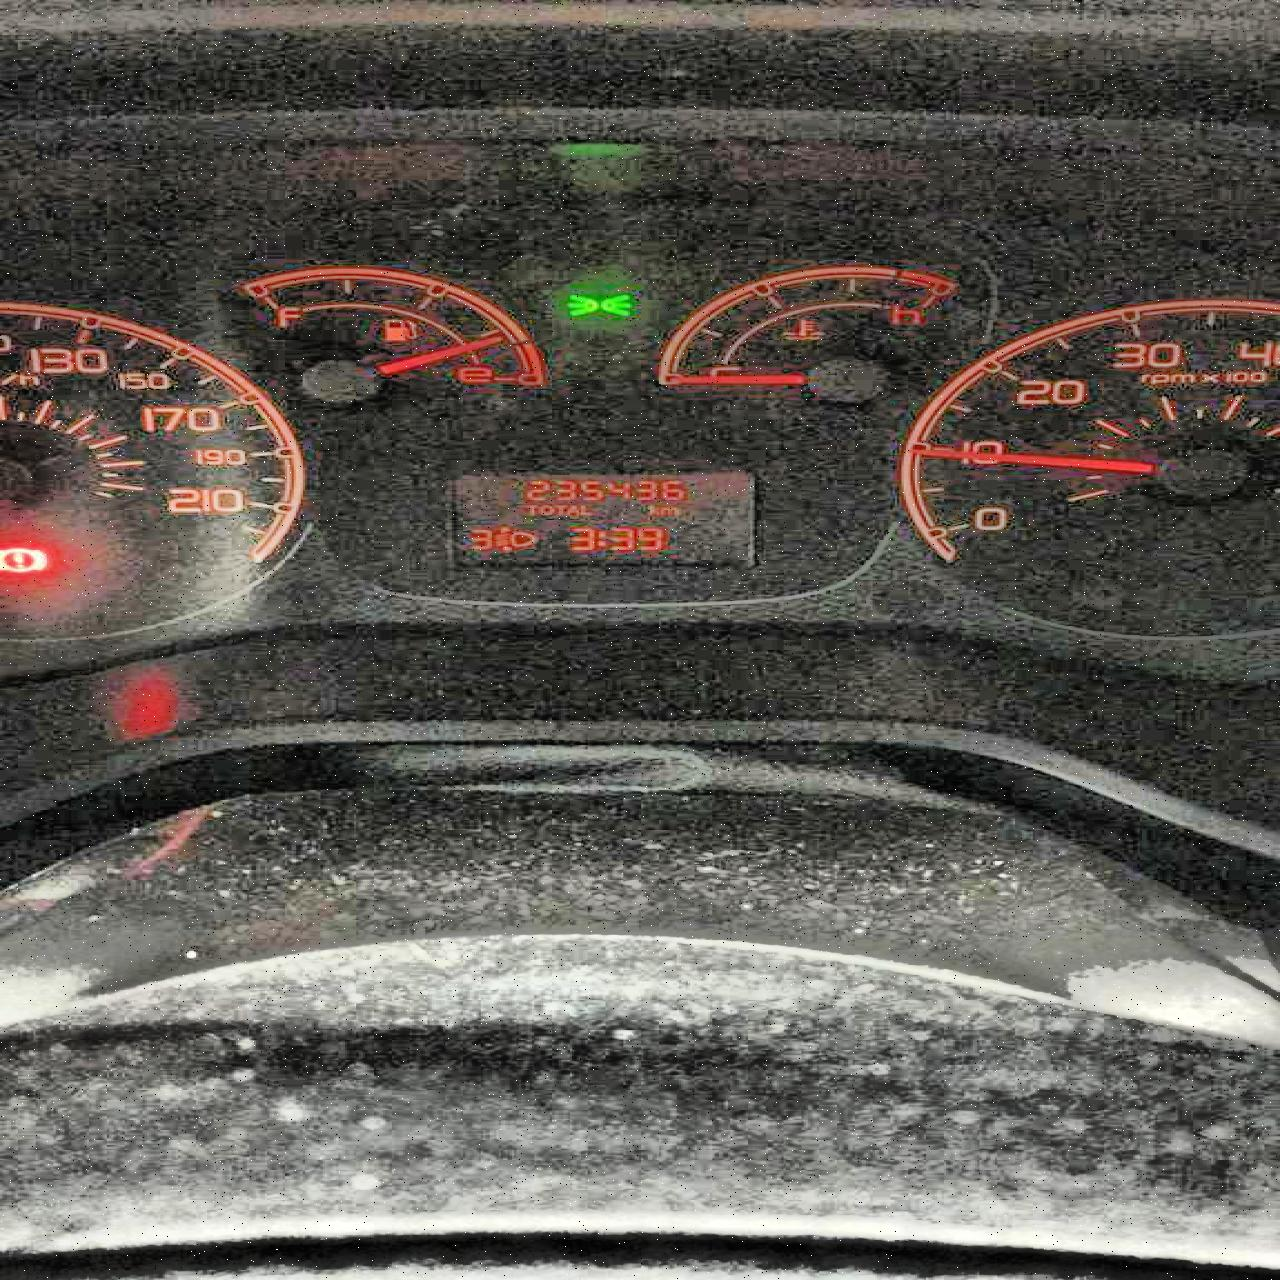2: (525, 479, 550, 501)
3: (567, 526, 592, 551), (610, 525, 632, 550), (468, 526, 490, 550), (552, 479, 574, 501), (636, 479, 654, 501)
4: (605, 479, 629, 499)
5: (580, 479, 604, 501)
6: (659, 479, 683, 501)
9: (636, 526, 661, 549)
X: (594, 529, 606, 547), (537, 503, 552, 517), (645, 501, 659, 515), (523, 503, 537, 516), (659, 505, 678, 515), (579, 503, 592, 516), (554, 503, 565, 516), (565, 504, 577, 515)
odometer: (443, 469, 755, 565)
